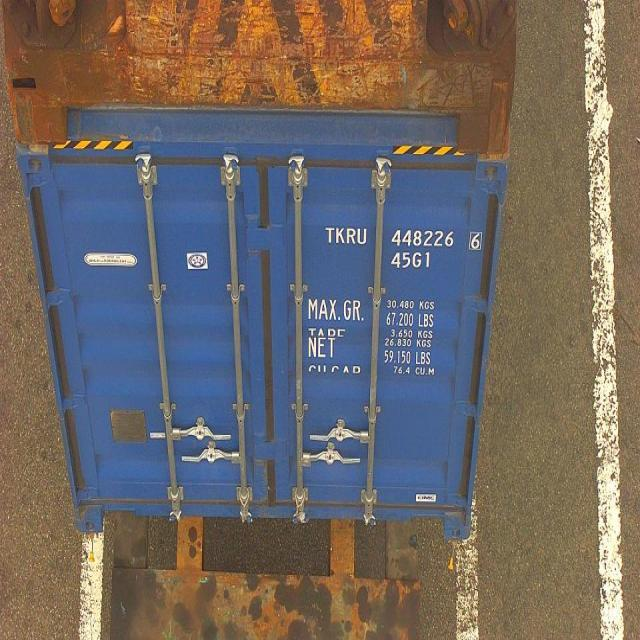ISO: (390, 250, 433, 270)
container_number: (328, 228, 484, 250)
